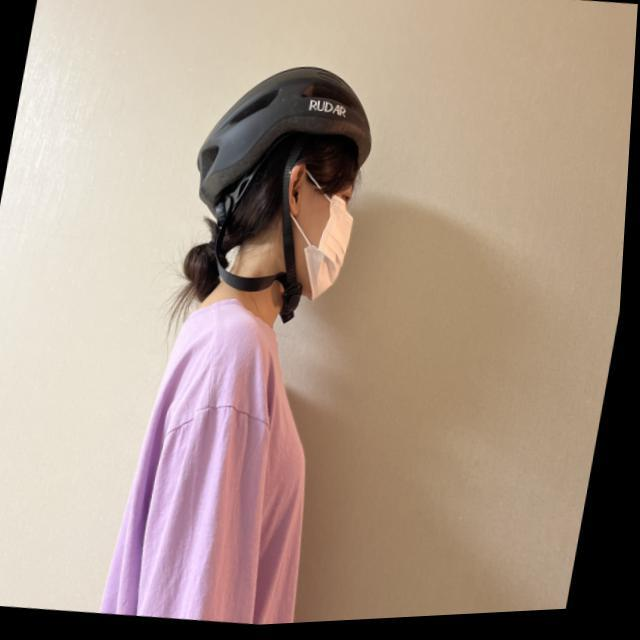Helmet: (161, 62, 376, 339)
